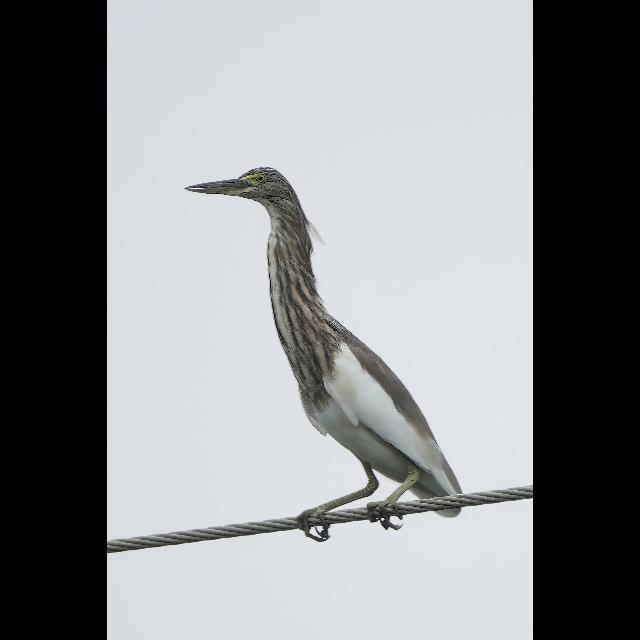heron: (172, 156, 473, 550)
